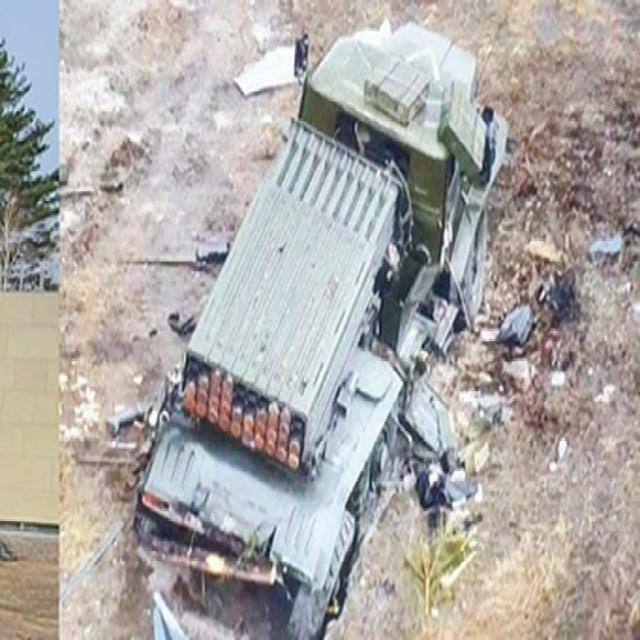MLRS: (138, 11, 510, 629)
